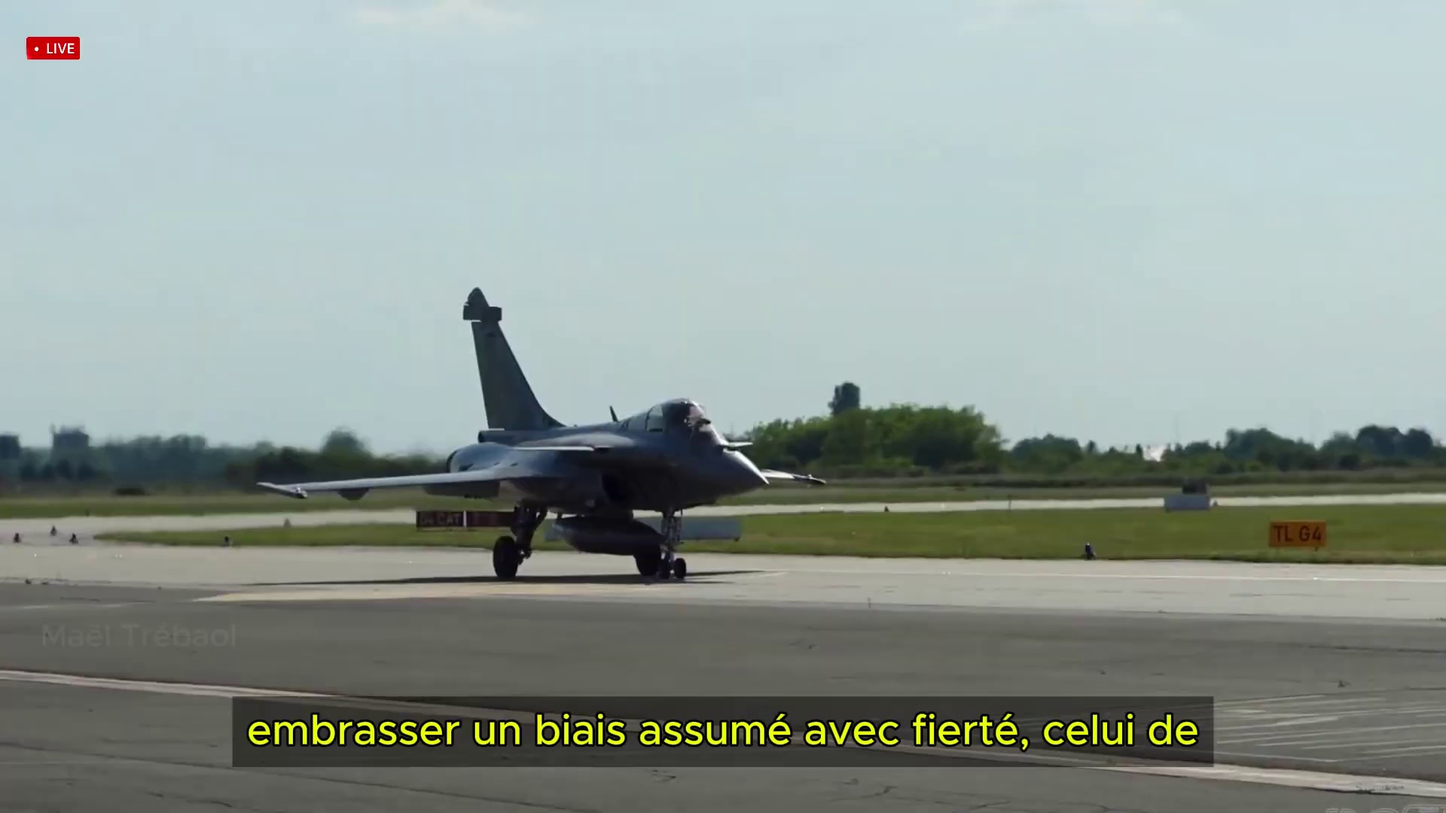Rafale: (266, 291, 820, 586)
